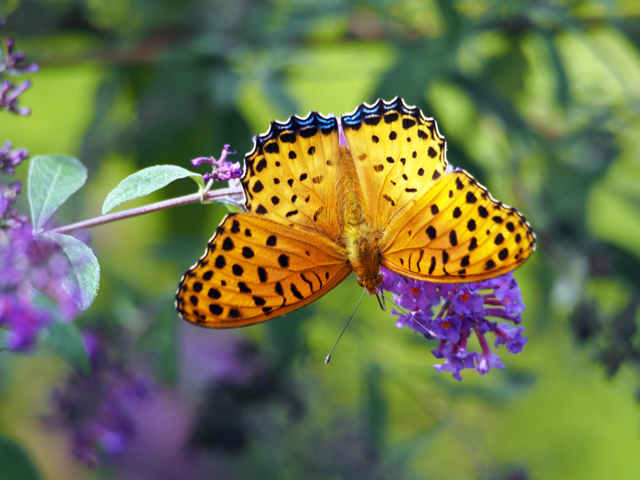Argyreus hyperbius: (164, 95, 537, 362)
butterfly: (166, 97, 539, 364)
